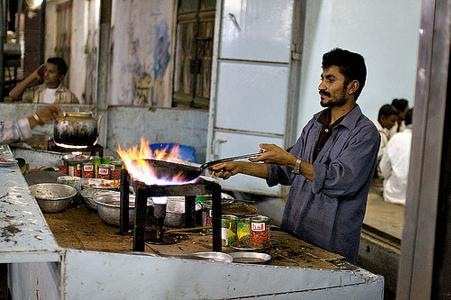person: (210, 50, 381, 269)
